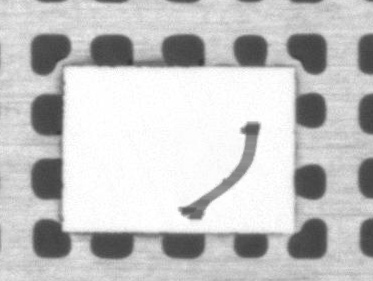DIE_INK: (179, 118, 260, 220)
